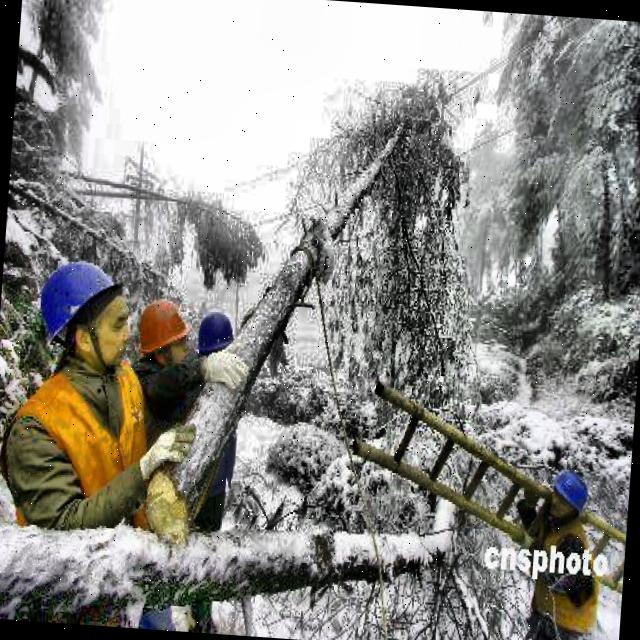helmet: (31, 247, 138, 375), (130, 293, 192, 379), (192, 305, 240, 373), (546, 458, 590, 526)
